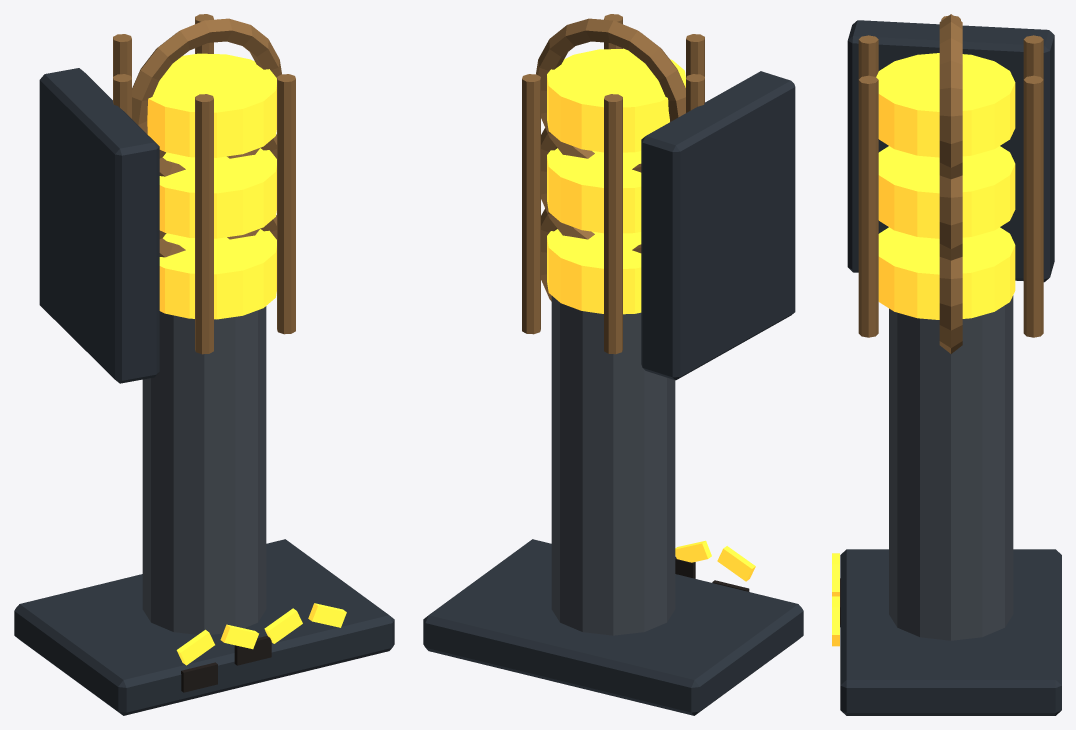
File: runtime.glb
3 renders of one model, left to right at view 1: azimuth 30°, elevation 25°; view 2: azimuth 150°, elevation 25°; view 3: azimuth 270°, elevation 25°, orthographic.
Parts seen in each view (by area): view 1: kinetic-tide-warning-beacon-v04_steel_nocol, kinetic-tide-warning-beacon-v04_plate_nocol, kinetic-tide-warning-beacon-v04_warningorange_nocol, kinetic-tide-warning-beacon-v04_bronze_nocol, kinetic-tide-warning-beacon-v04_weardark_nocol; view 2: kinetic-tide-warning-beacon-v04_steel_nocol, kinetic-tide-warning-beacon-v04_plate_nocol, kinetic-tide-warning-beacon-v04_warningorange_nocol, kinetic-tide-warning-beacon-v04_bronze_nocol; view 3: kinetic-tide-warning-beacon-v04_steel_nocol, kinetic-tide-warning-beacon-v04_plate_nocol, kinetic-tide-warning-beacon-v04_warningorange_nocol, kinetic-tide-warning-beacon-v04_bronze_nocol.
Boxes of the visible parts, box(x1,y1,x2,y2) form: kinetic-tide-warning-beacon-v04_steel_nocol: box(14, 68, 394, 715); kinetic-tide-warning-beacon-v04_plate_nocol: box(142, 306, 266, 634); kinetic-tide-warning-beacon-v04_warningorange_nocol: box(147, 53, 346, 665); kinetic-tide-warning-beacon-v04_bronze_nocol: box(113, 14, 295, 354); kinetic-tide-warning-beacon-v04_weardark_nocol: box(181, 635, 271, 692); kinetic-tide-warning-beacon-v04_steel_nocol: box(423, 71, 803, 715); kinetic-tide-warning-beacon-v04_plate_nocol: box(551, 296, 675, 635); kinetic-tide-warning-beacon-v04_warningorange_nocol: box(547, 48, 755, 581); kinetic-tide-warning-beacon-v04_bronze_nocol: box(522, 14, 704, 354); kinetic-tide-warning-beacon-v04_steel_nocol: box(840, 20, 1061, 715); kinetic-tide-warning-beacon-v04_plate_nocol: box(889, 295, 1013, 640); kinetic-tide-warning-beacon-v04_warningorange_nocol: box(832, 53, 1015, 646); kinetic-tide-warning-beacon-v04_bronze_nocol: box(858, 14, 1043, 353).
Size of the model in its own units: 2.06 by 4.45 by 1.47.
